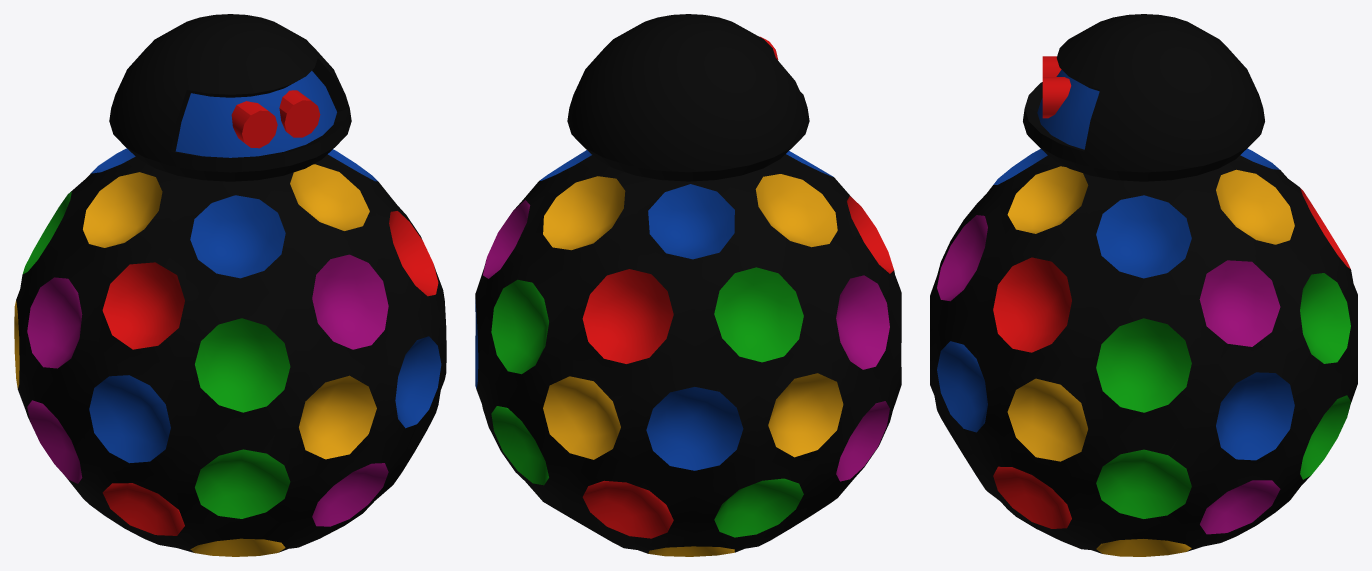
The model's file is Bola_2.FBX.
The picture shows the model from 3 angles, left to right: view 1: azimuth 30°, elevation 25°; view 2: azimuth 150°, elevation 25°; view 3: azimuth 270°, elevation 25°; orthographic projection.
Visible parts, largest first — view 1: GeoSphere003, Sphere001; view 2: GeoSphere003, Sphere001; view 3: GeoSphere003, Sphere001.
Part boxes in pixels (bbox=[...]): GeoSphere003: bbox=[14, 148, 446, 556]; Sphere001: bbox=[109, 14, 351, 181]; GeoSphere003: bbox=[475, 150, 901, 556]; Sphere001: bbox=[567, 14, 809, 181]; GeoSphere003: bbox=[930, 148, 1357, 556]; Sphere001: bbox=[1023, 14, 1264, 181].
Bounding box in the file's own units: 37.71 × 37.27 × 48.83.
